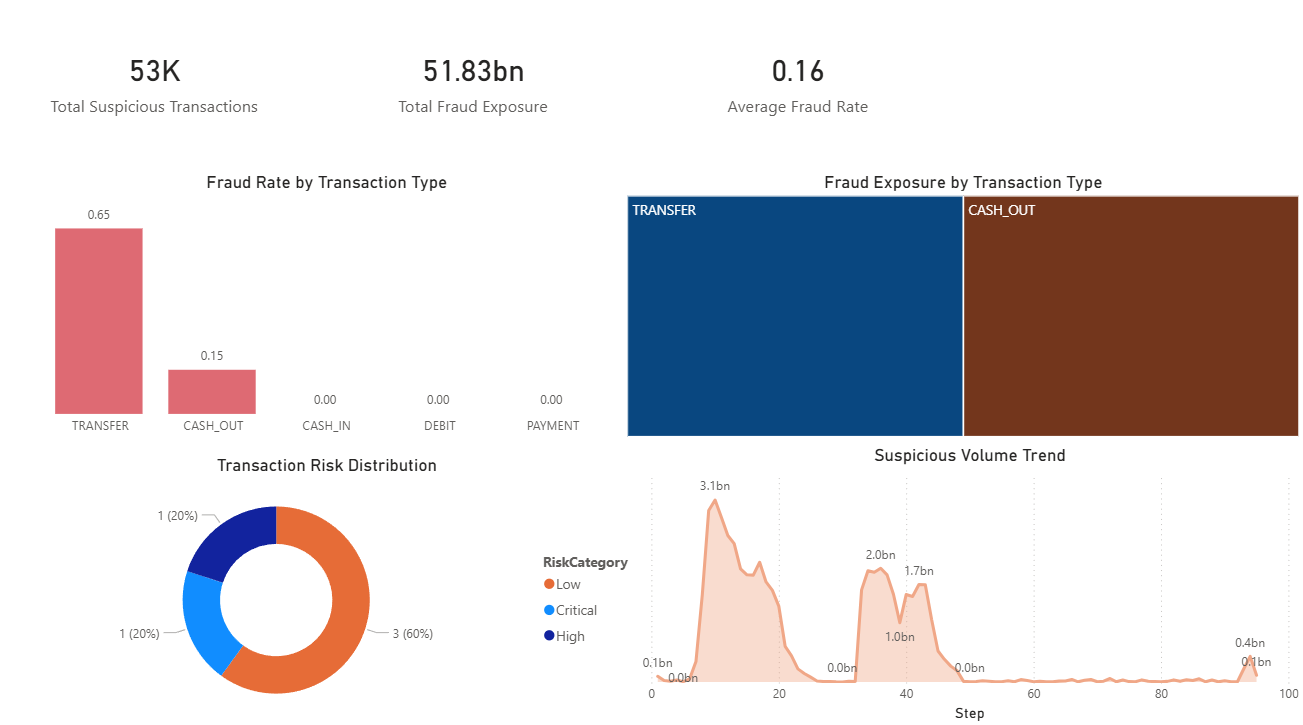

The dashboard page shown, as its layout file describes it:
{"tool":"powerbi","page":{"name":"Page 3","canvas":[1280,720],"ordinal":2},"visuals":[{"type":"card","fields":{"Values":["HighRiskTransactions.Total Suspicious Transactions"]},"box":[9.6,0,292.3,177],"z":0},{"type":"card","fields":{"Values":["HighRiskTransactions.Total Fraud Exposure"]},"box":[321.1,0,292.3,177],"z":1},{"type":"card","fields":{"Values":["TransactionSummary.Average Fraud Rate"]},"box":[639.5,0,292.3,177],"z":3},{"type":"clusteredColumnChart","title":"Fraud Rate by Transaction Type","fields":{"Category":["TransactionSummary.TransactionType"],"Y":["Sum(TransactionSummary.FraudRate)"]},"box":[9.6,177,629.8,267.6],"z":4},{"type":"treemap","title":"Fraud Exposure by Transaction Type","fields":{"Group":["TransactionSummary.TransactionType"],"Values":["Sum(TransactionSummary.FraudExposure)"]},"box":[613.4,177,666.9,264.8],"z":5},{"type":"donutChart","title":"Transaction Risk Distribution","fields":{"Category":["TransactionSummary.RiskCategory"],"Y":["CountNonNull(TransactionSummary.TransactionType)"]},"box":[10,455,630,265],"z":6},{"type":"lineChart","title":"Suspicious Volume Trend","fields":{"Category":["HighRiskTransactions.step"],"Y":["Sum(HighRiskTransactions.amount)"]},"box":[627.1,444.6,653.2,275.8],"z":7}]}

Visuals, with their boxes in screenshot pixels (x1, y1, x2, y2), scaled from the page's 1280x720 canvas onto the 1303x725 screenshot:
card - HighRiskTransactions.Total Suspicious Transactions: 10 0 307 178
card - HighRiskTransactions.Total Fraud Exposure: 327 0 624 178
card - TransactionSummary.Average Fraud Rate: 651 0 949 178
"Fraud Rate by Transaction Type" clusteredColumnChart: 10 178 651 448
"Fraud Exposure by Transaction Type" treemap: 624 178 1302 445
"Transaction Risk Distribution" donutChart: 10 458 652 724
"Suspicious Volume Trend" lineChart: 638 448 1302 724
